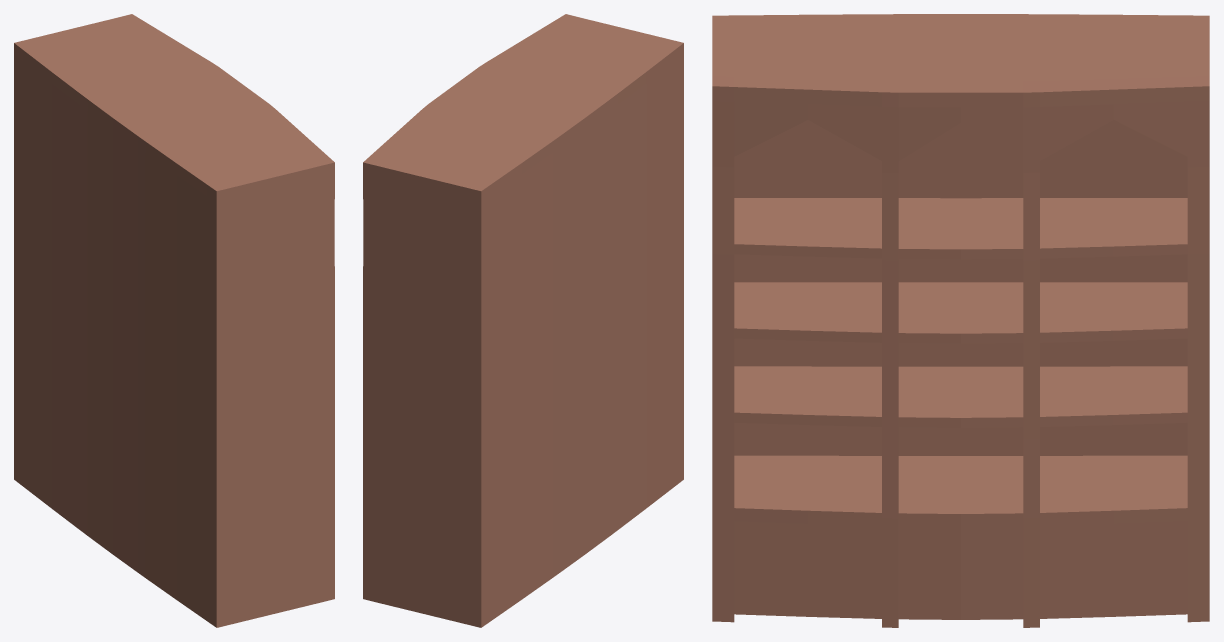
Rendered from Bookshelf.fbx.
The picture shows the model from 3 angles, left to right: view 1: azimuth 30°, elevation 25°; view 2: azimuth 150°, elevation 25°; view 3: azimuth 270°, elevation 25°; orthographic projection. The views are drawn at different scales.
Visible parts, largest first — view 1: Cube.008; view 2: Cube.008; view 3: Cube.008.
Part boxes in pixels (x1=…): Cube.008: x1=14, y1=14, x2=334, y2=627; Cube.008: x1=363, y1=14, x2=683, y2=627; Cube.008: x1=712, y1=14, x2=1209, y2=627.
Size of the model in its own units: 50.06 by 158 by 133.
